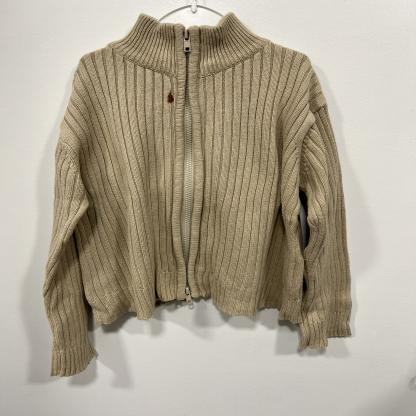stain: (162, 86, 178, 106)
